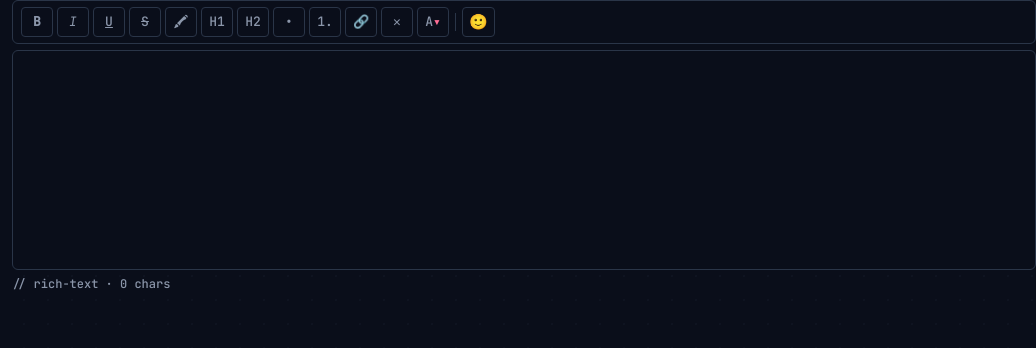
RichTextEditor (T-435 — TipTap engine) › click 🖍 (highlight) → opens 7-swatch popover with orange (exclusive to highlight set)
Click the button with test id "rte-btn-highlight". click: (181, 22)
box: 165,7 -> 197,37
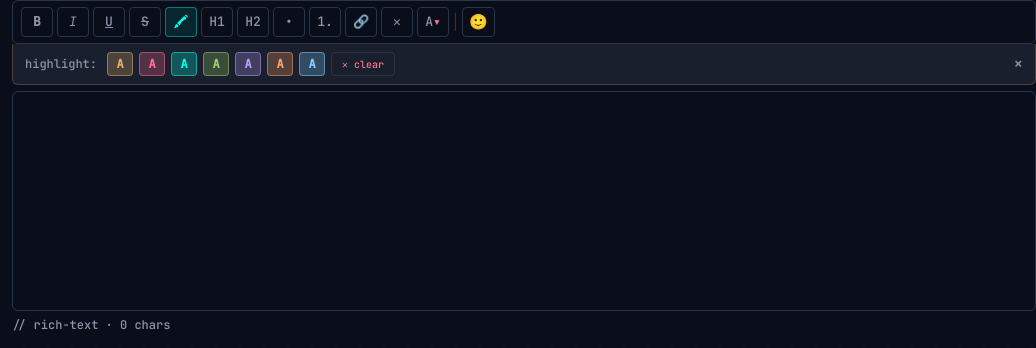
Expected: the element with test id "rte-popover-highlight" is shown, 12,44 -> 1035,85
Expected: the button with test id "rte-highlight-orange" is shown, 267,52 -> 293,76
Expected: the button with test id "rte-highlight-clear" is shown, 331,52 -> 395,76
